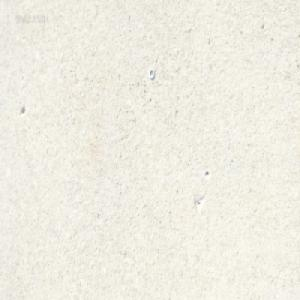Washer: (148, 67, 154, 79)
